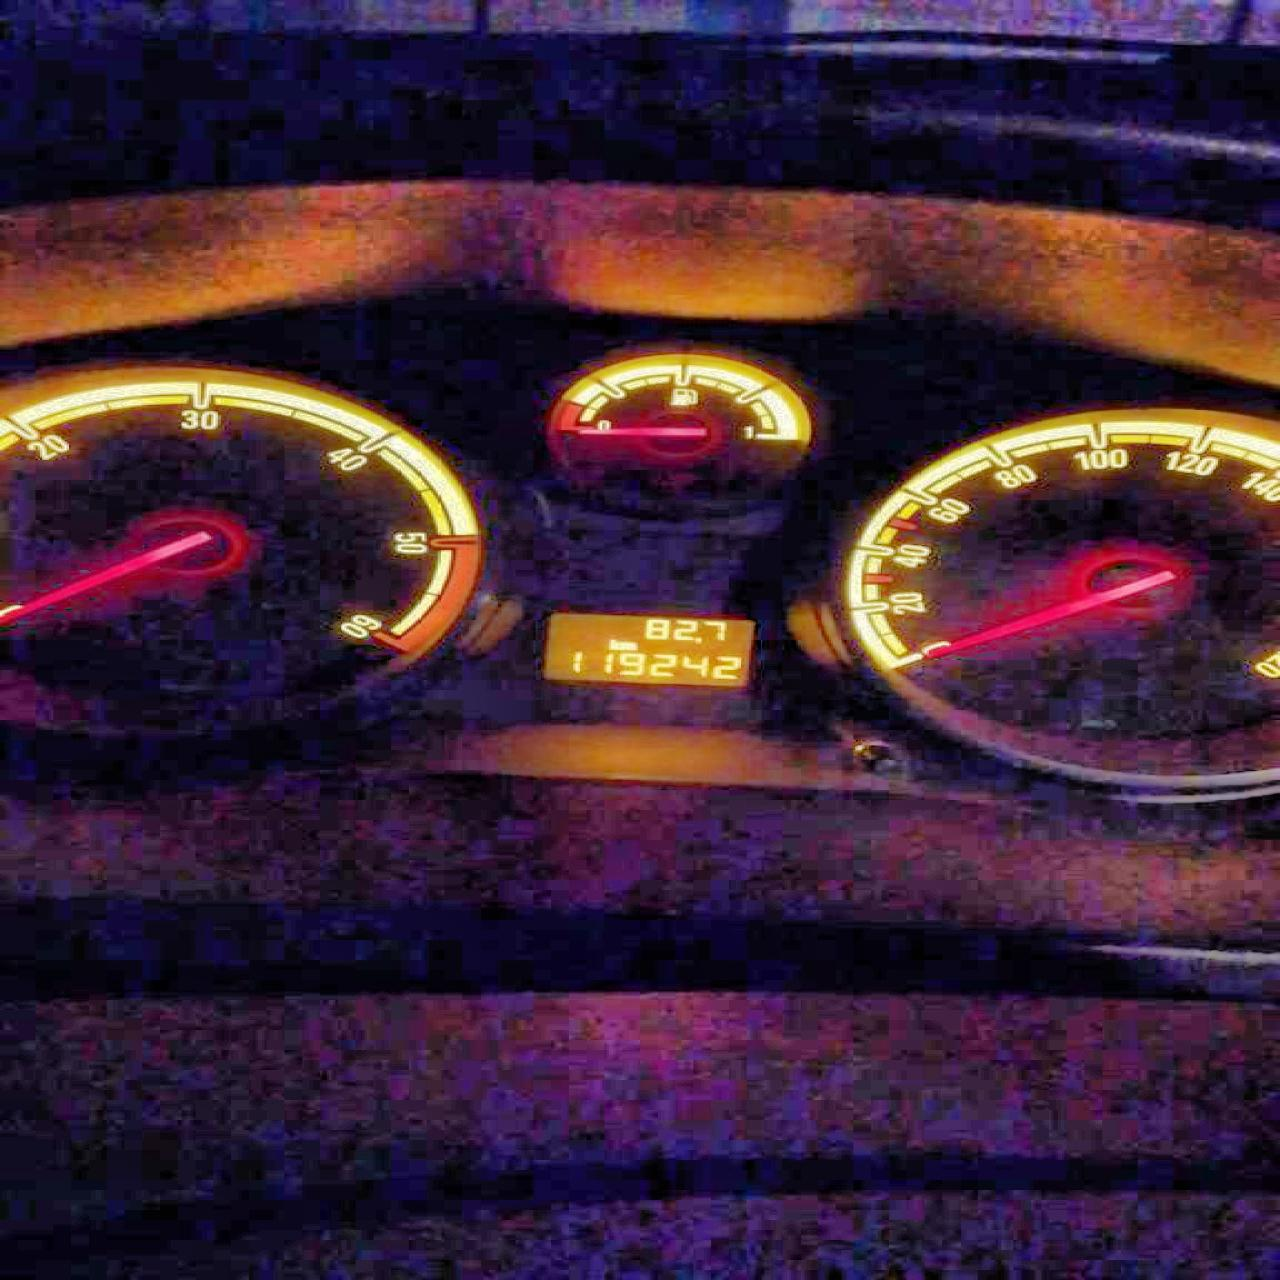-: (694, 634, 702, 644)
1: (568, 648, 583, 674), (600, 651, 611, 675)
2: (712, 654, 740, 680), (647, 652, 675, 676), (669, 618, 695, 640)
4: (680, 654, 707, 678)
7: (700, 619, 729, 641)
8: (642, 618, 667, 640)
9: (615, 652, 642, 674)
X: (618, 640, 638, 649), (610, 638, 618, 648)
odometer: (538, 608, 760, 688)
